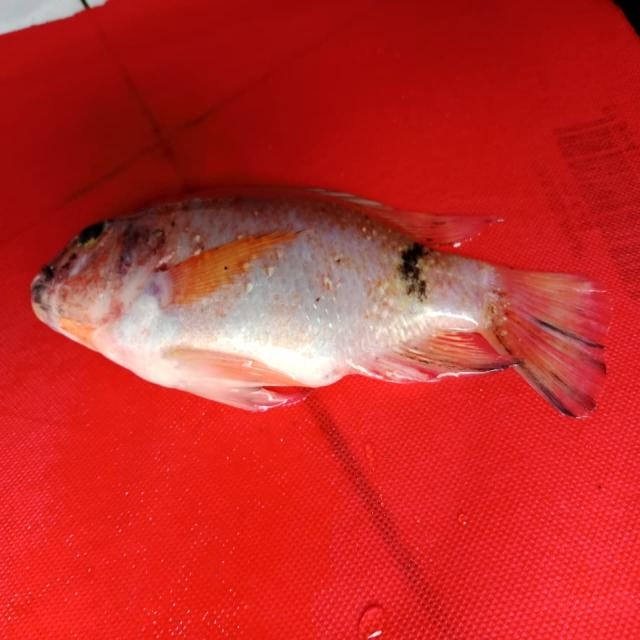ikan: (23, 178, 605, 458)
